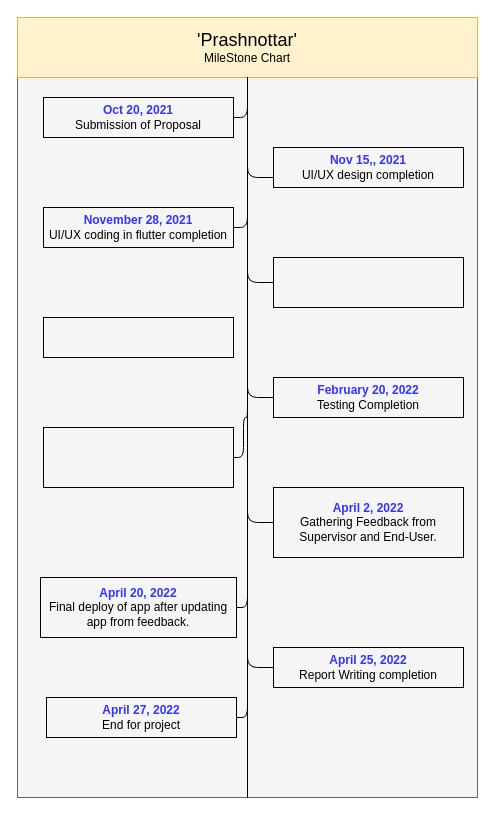
Some shapes in this 495 by 816 pixel diagram are drawn without their labels. Each missing label, with the centre of its shape:
December 28, 2021 UI/UX functional completion without backend.: the point at 368,282
January 30, 2022 Backend Completion: the point at 138,337
March 15, 2022 Release of Beta Version to End-Users: the point at 138,457
